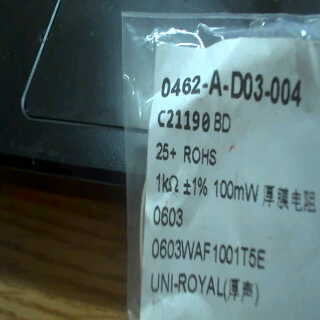1kR: (152, 169, 182, 196)
